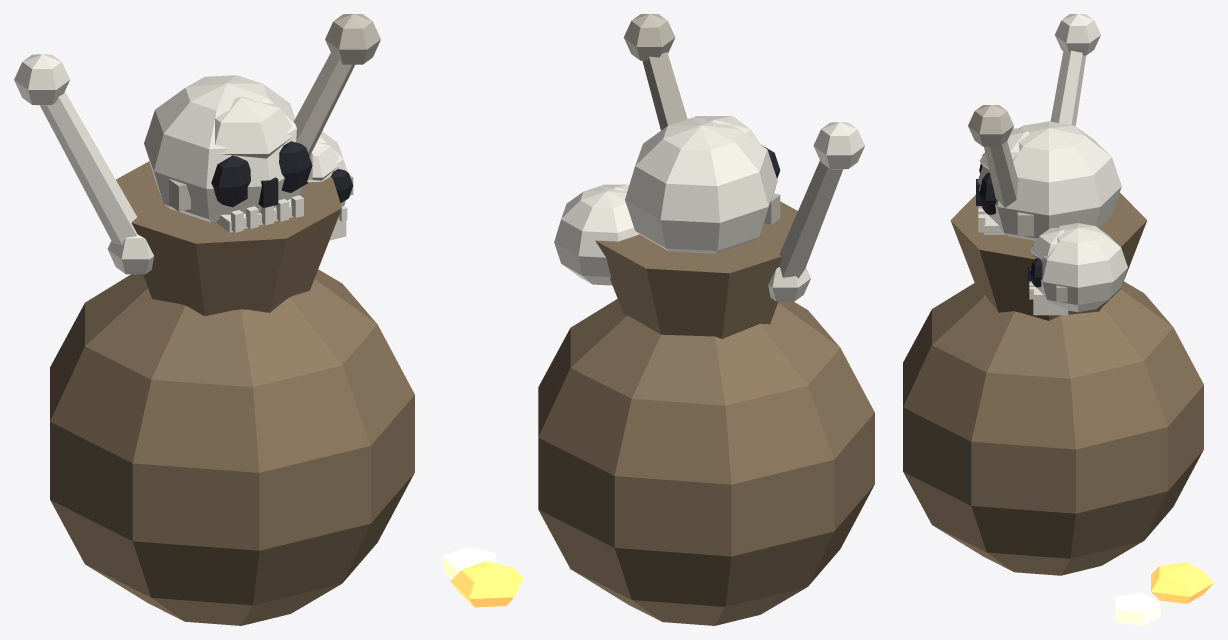
Rendered from loot_sack.glb.
3 renders of one model, left to right at view 1: azimuth 30°, elevation 25°; view 2: azimuth 150°, elevation 25°; view 3: azimuth 270°, elevation 25°, orthographic. The views are drawn at different scales.
Parts seen in each view (by area): view 1: loot_sack; view 2: loot_sack; view 3: loot_sack.
Part boxes in pixels (<box>): loot_sack: <box>14,14,414,625</box>; loot_sack: <box>443,14,874,625</box>; loot_sack: <box>903,14,1213,625</box>.
Bounding box in the file's own units: 1.35 × 1.88 × 1.07.
